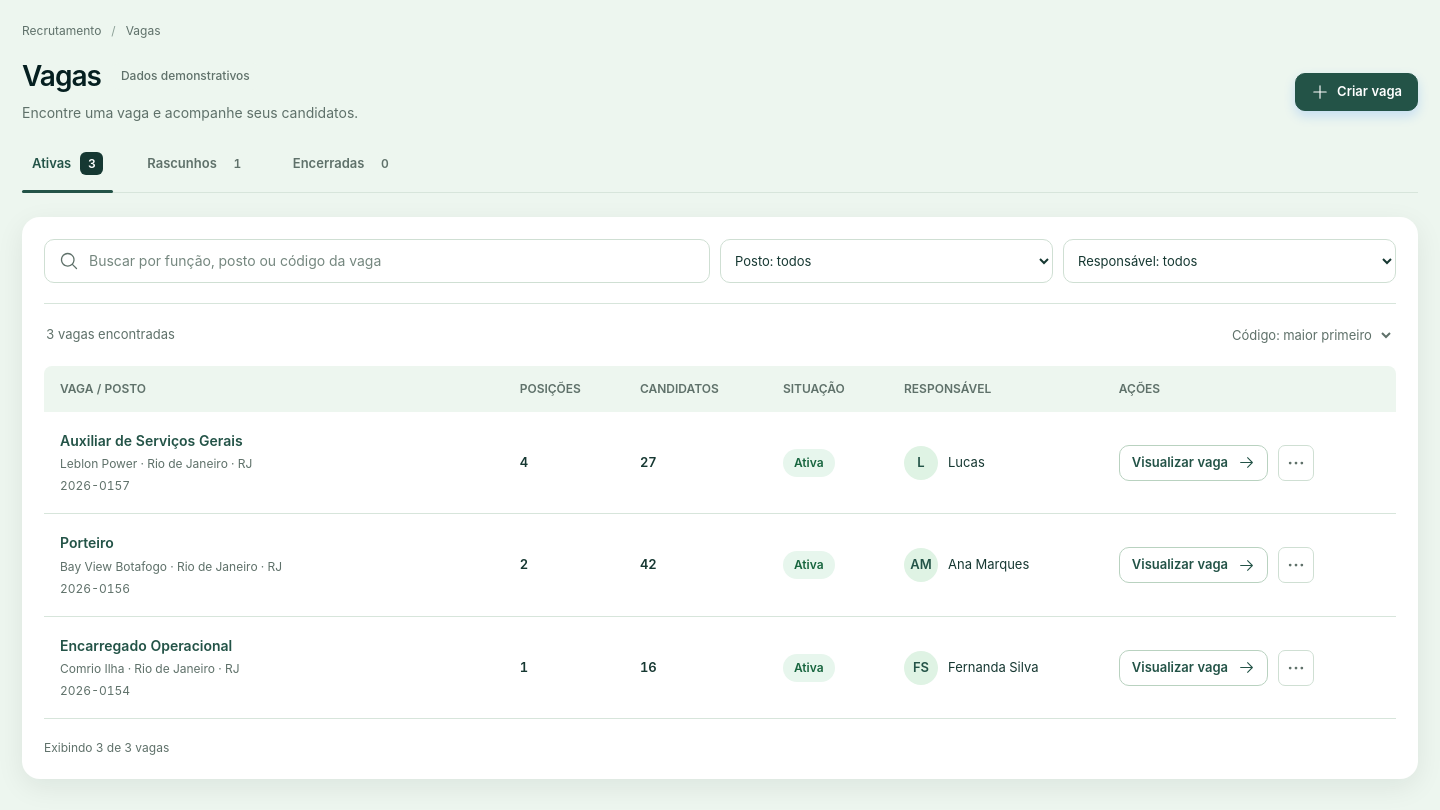
Lista operacional de vagas › clears search and filters without changing the selected situation
Select "Comrio Ilha" in the dropdown named "Filtrar por posto" at [886, 261], box [720, 239, 1053, 283]
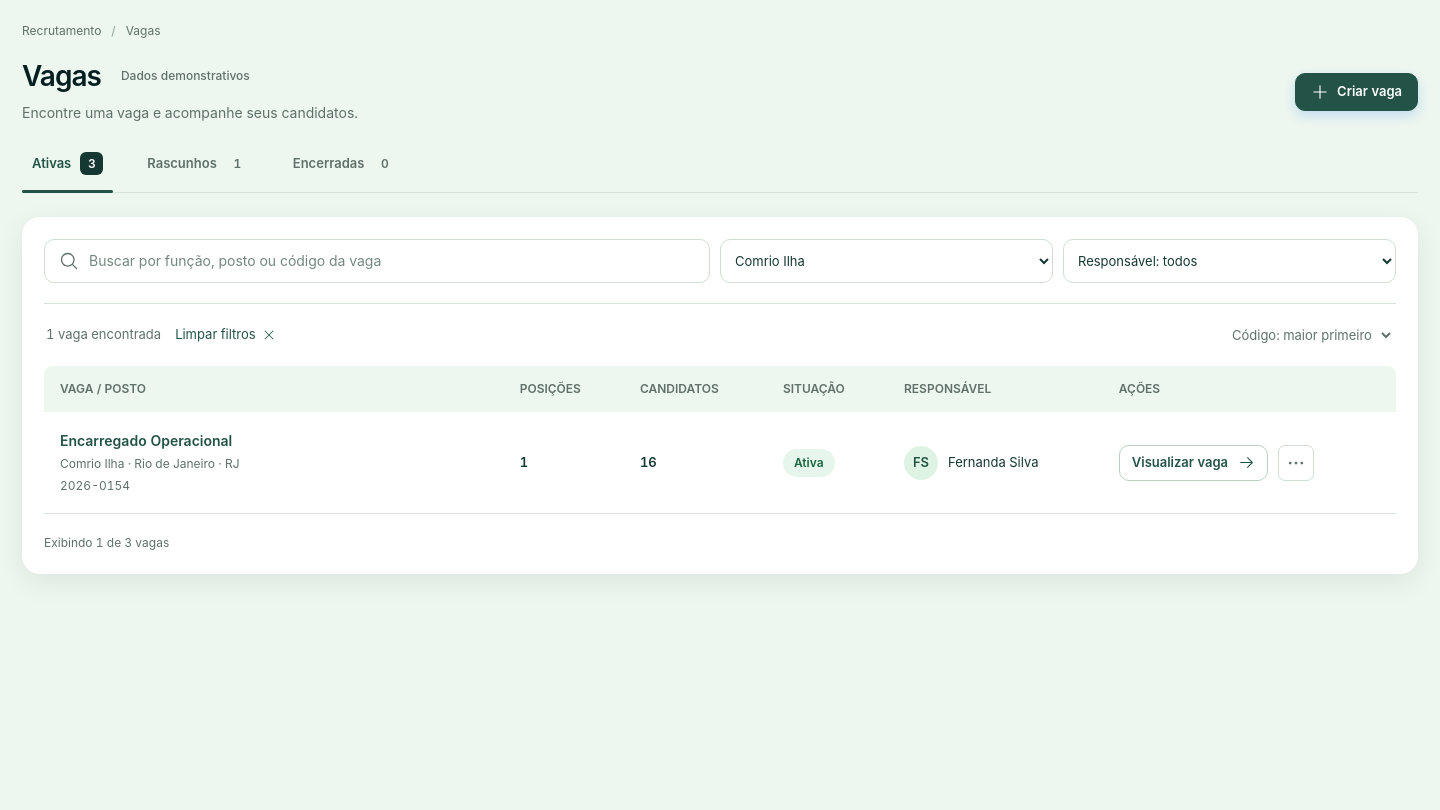
Expected: the number of buttons "Visualizar vaga" is 1, [1119, 445, 1268, 481]
Click the button "Limpar filtros".
click(225, 335)  # box [175, 325, 276, 345]
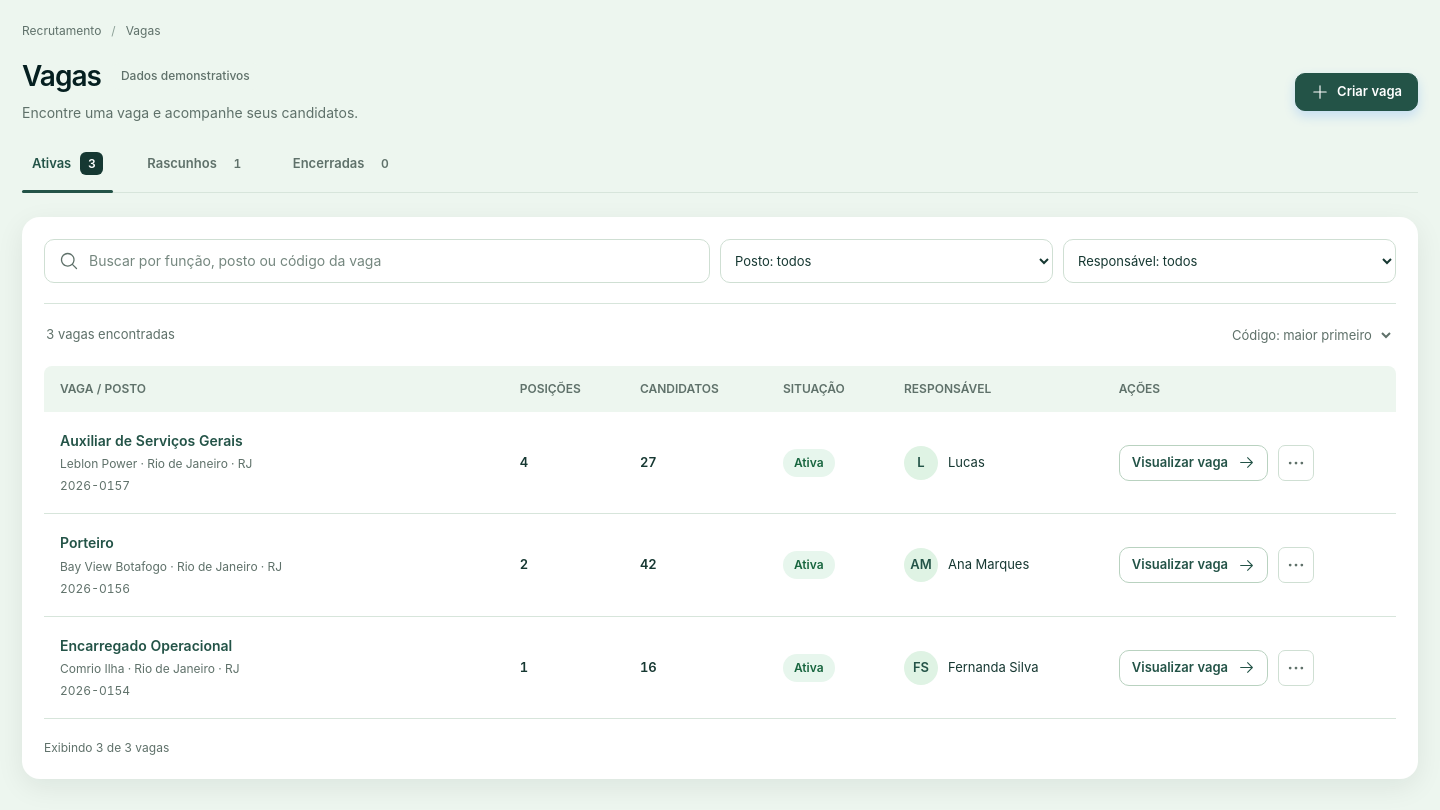
Expected: the number of buttons "Visualizar vaga" is 3, [1119, 445, 1268, 481]; [1119, 547, 1268, 583]; [1119, 650, 1268, 686]
